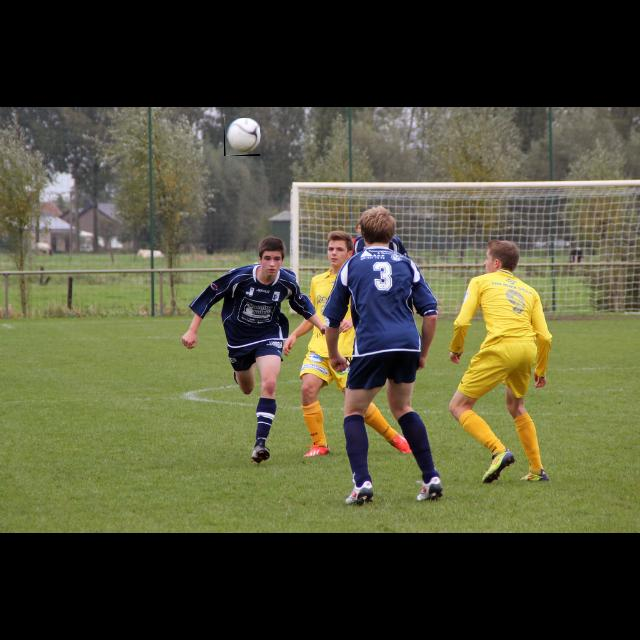Football: (224, 118, 260, 156)
